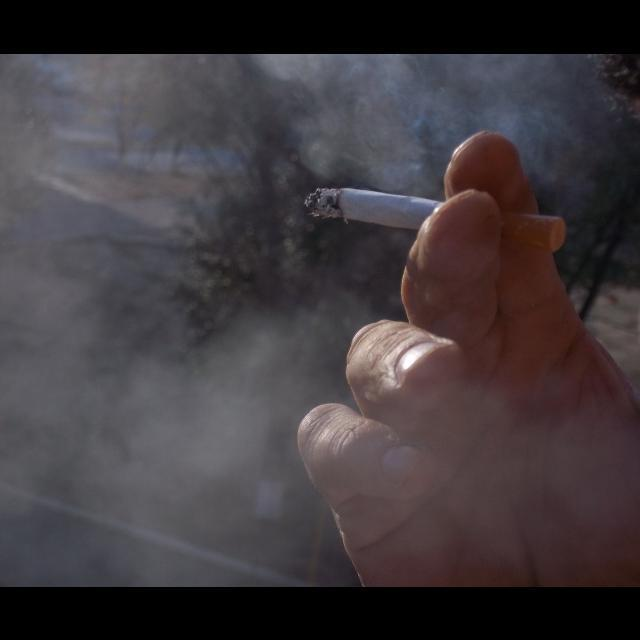rokok: (306, 175, 572, 259)
